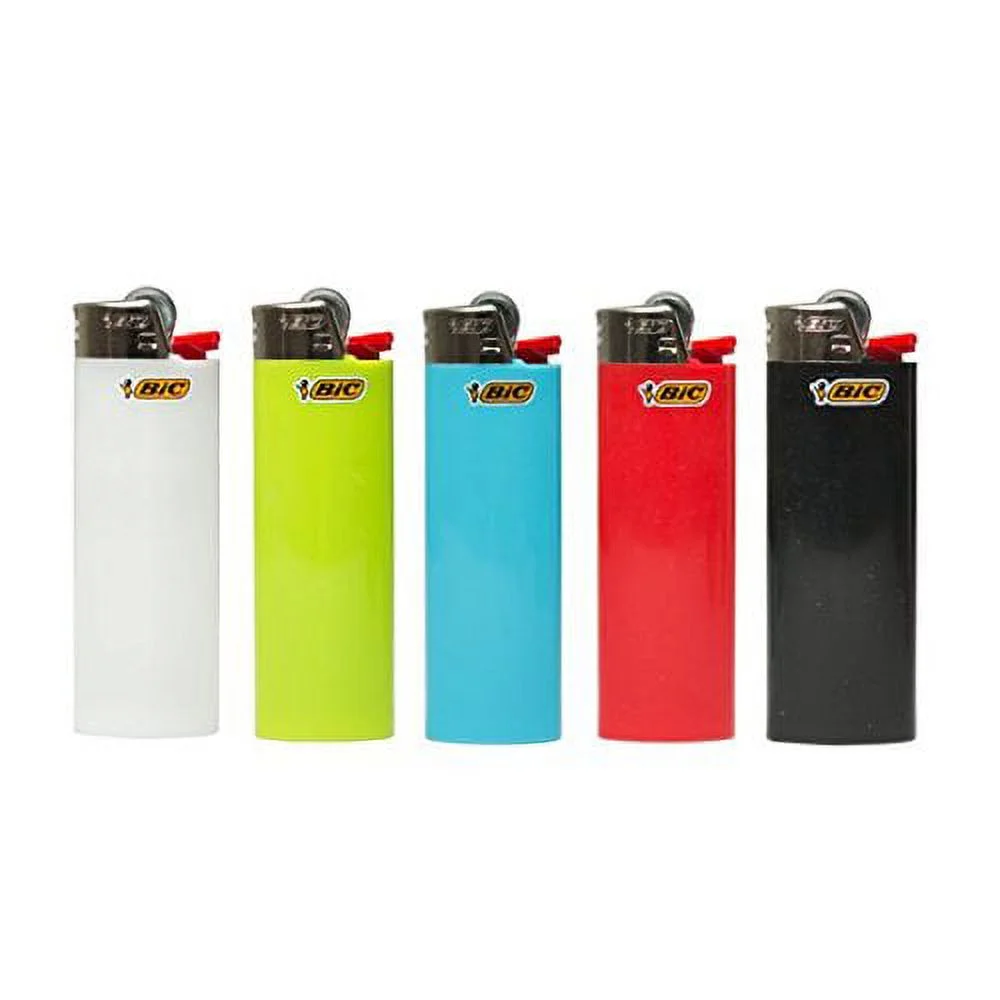toxic_waste: (65, 290, 244, 767), (578, 292, 748, 766), (765, 288, 930, 772), (418, 287, 581, 765), (248, 294, 407, 772)
